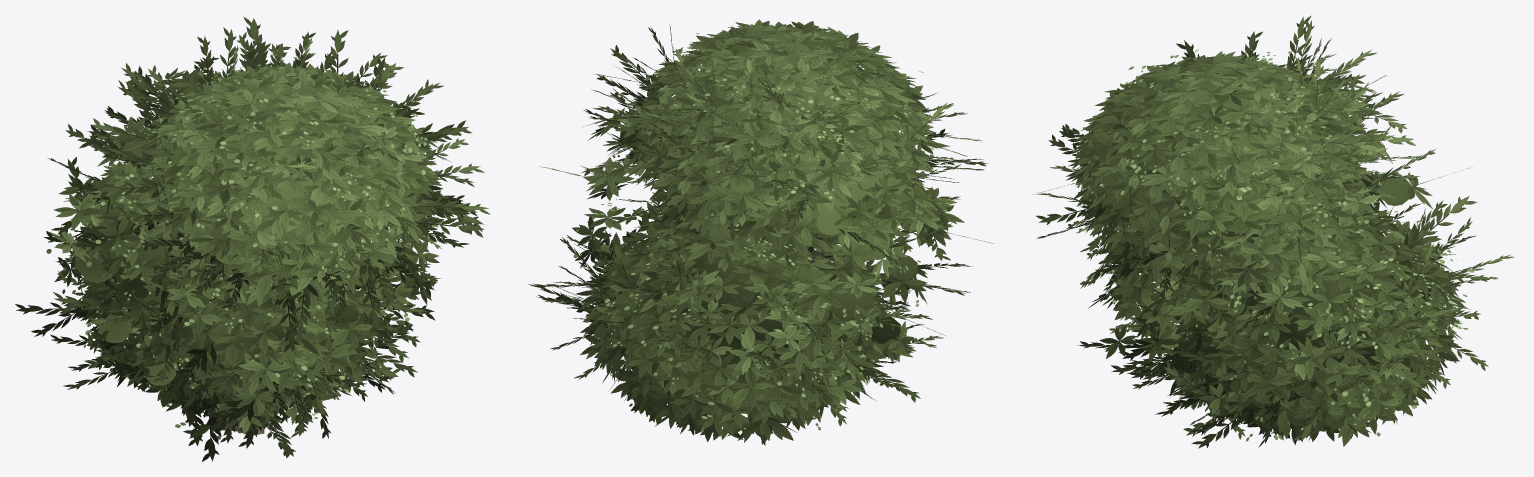
The model's file is ZonTree203.glb.
3 views of the same model, side by side, from view 1: azimuth 30°, elevation 25°; view 2: azimuth 150°, elevation 25°; view 3: azimuth 270°, elevation 25° (orthographic).
Parts seen in each view (by area): view 1: ZonTree203_leaves; view 2: ZonTree203_leaves; view 3: ZonTree203_leaves.
Part boxes in pixels (x1=…): ZonTree203_leaves: x1=15, y1=16, x2=490, y2=461; ZonTree203_leaves: x1=528, y1=19, x2=993, y2=445; ZonTree203_leaves: x1=1033, y1=15, x2=1514, y2=448.
Bounding box in the file's own units: 10.06 × 9.44 × 10.72.
Materials: 3 (2 with a texture image).
